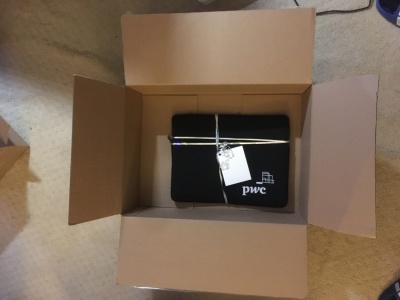innerbox: (125, 85, 308, 226)
outerbox: (73, 12, 378, 300)
product: (171, 115, 288, 208)
